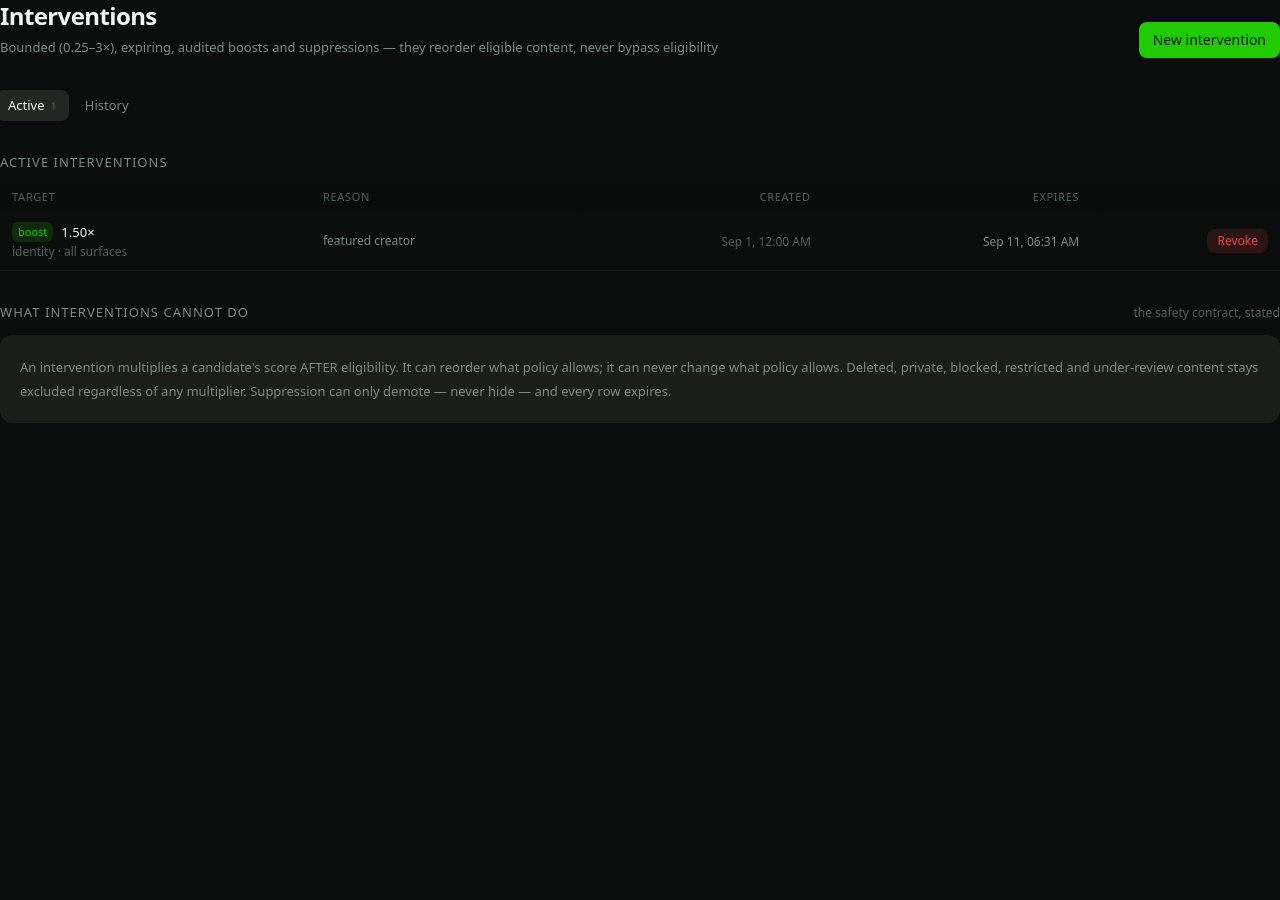
Test: Interventions page › opens the create dialog from the header action
This screenshot has width=1280, height=900.
Click the button "New intervention": {"x": 1209, "y": 40} [1139,22,1279,58]
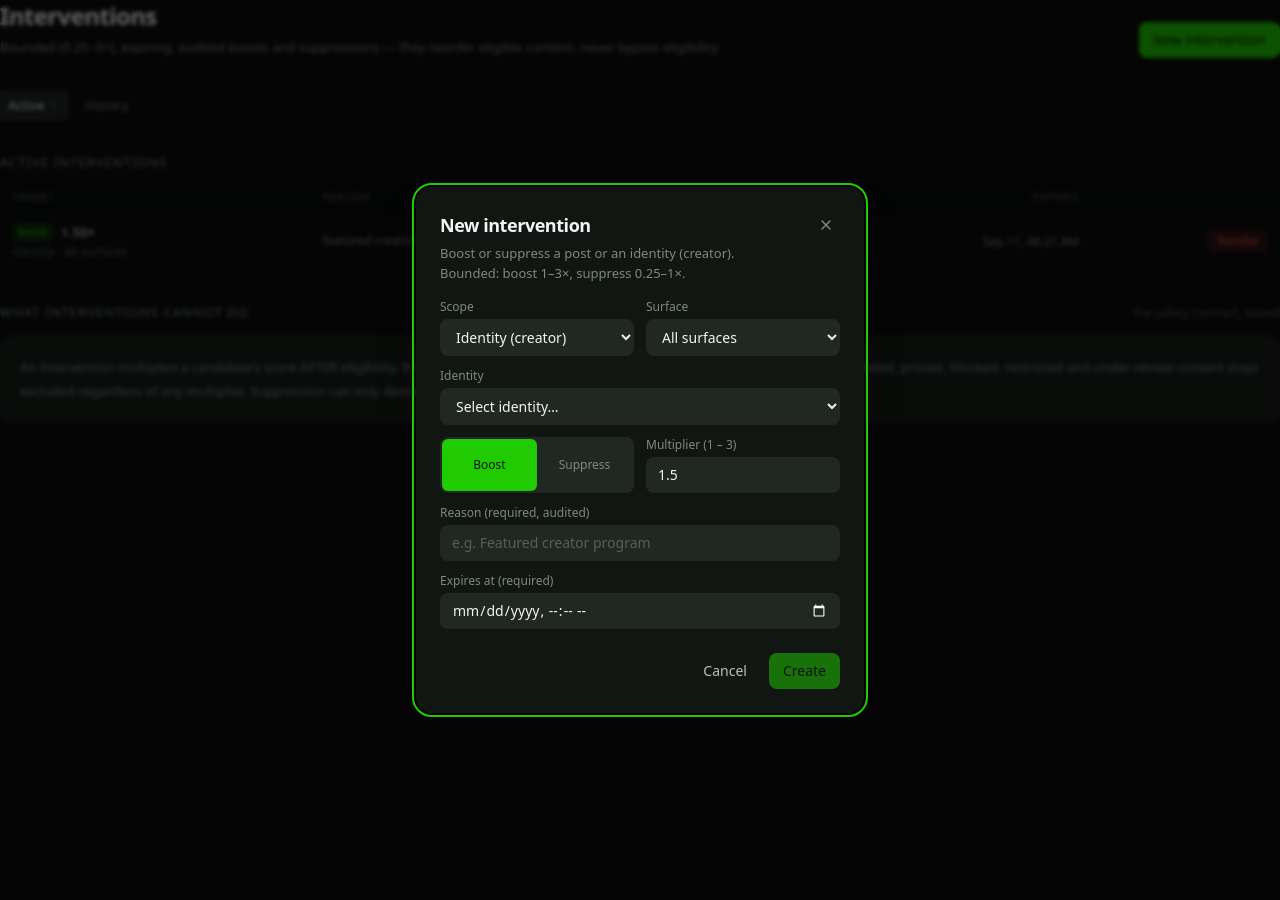
Expected: the dialog is shown, [416,187,864,713]
